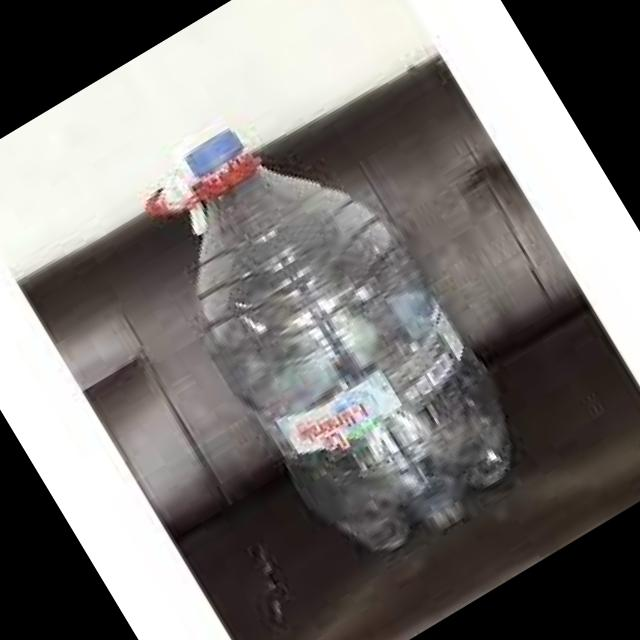Galon: (105, 69, 550, 592)
